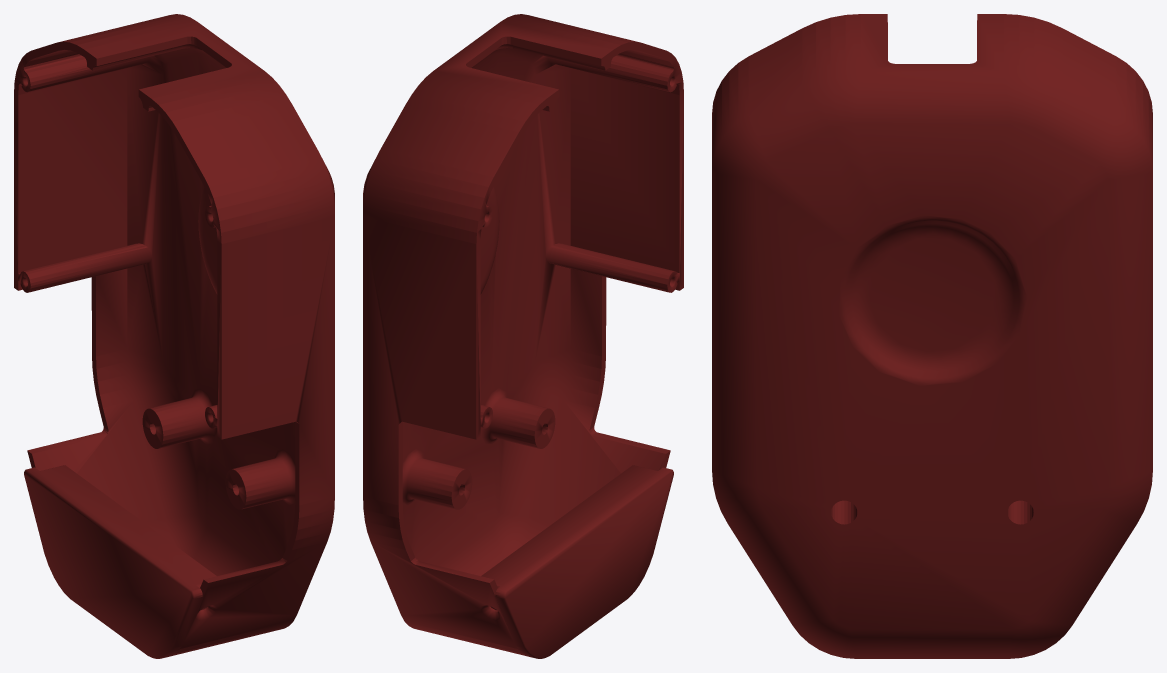
File: lift_carriage_chest.dae
The picture shows the model from 3 angles, left to right: view 1: azimuth 30°, elevation 25°; view 2: azimuth 150°, elevation 25°; view 3: azimuth 270°, elevation 25°; orthographic projection. The views are drawn at different scales.
Parts seen in each view (by area): view 1: node; view 2: node; view 3: node.
Part boxes in pixels (x1,y1,x2,y2): node: [14, 14, 334, 658]; node: [363, 14, 683, 658]; node: [712, 14, 1152, 658].
Bounding box in the file's own units: 0.06 × 0.15 × 0.22.
